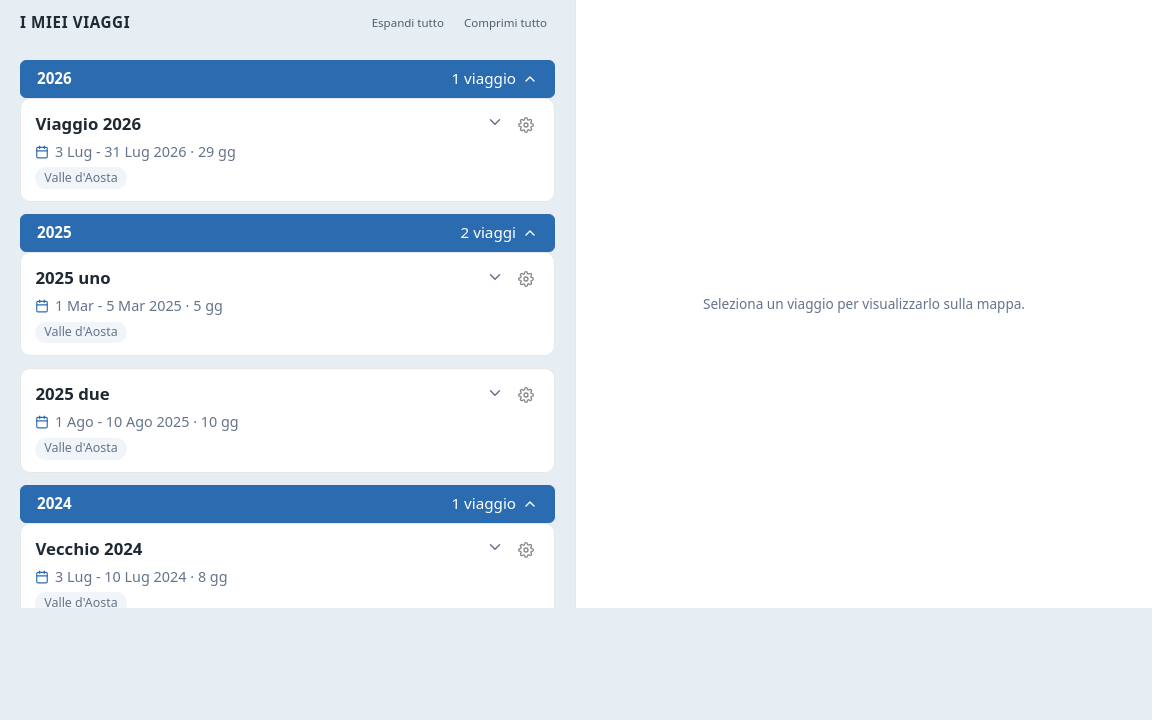
Test: TripsDashboard — year grouping accordion › allows closing multiple years at once and reopening them independently
The image size is (1152, 720).
Click the button with aria-label "Viaggi 2026" at (54, 78), box [20,60,555,98]
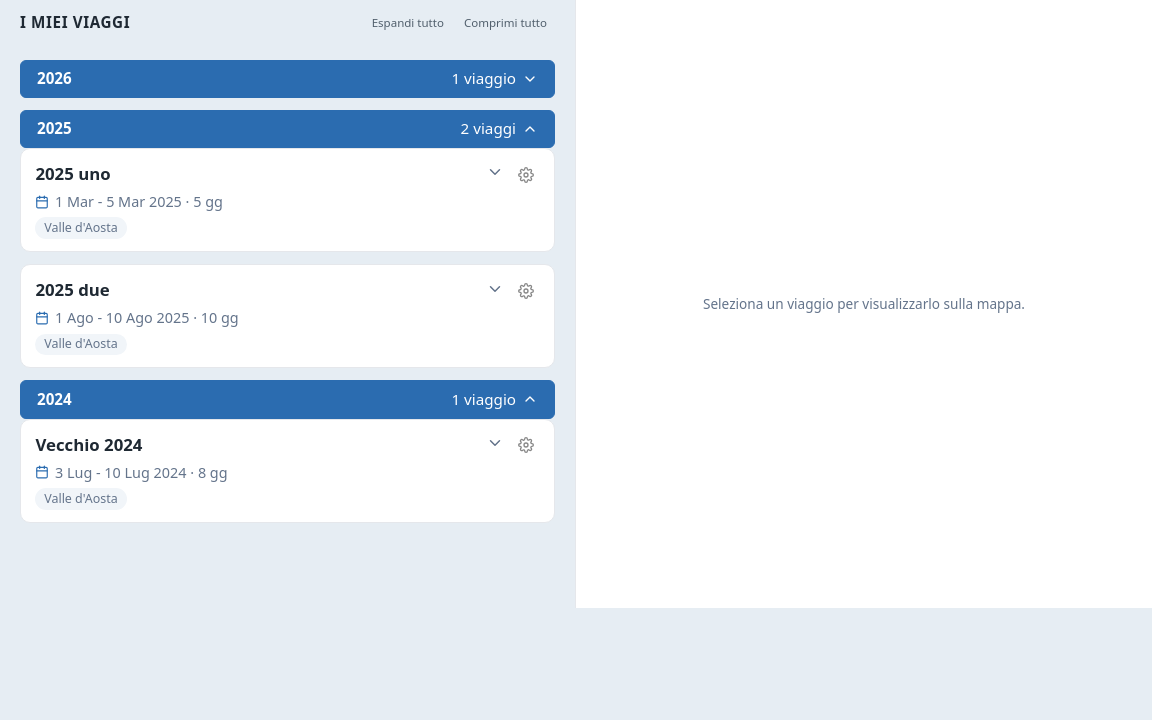
Click the button with aria-label "Viaggi 2024" at (54, 399), box [20,380,555,418]
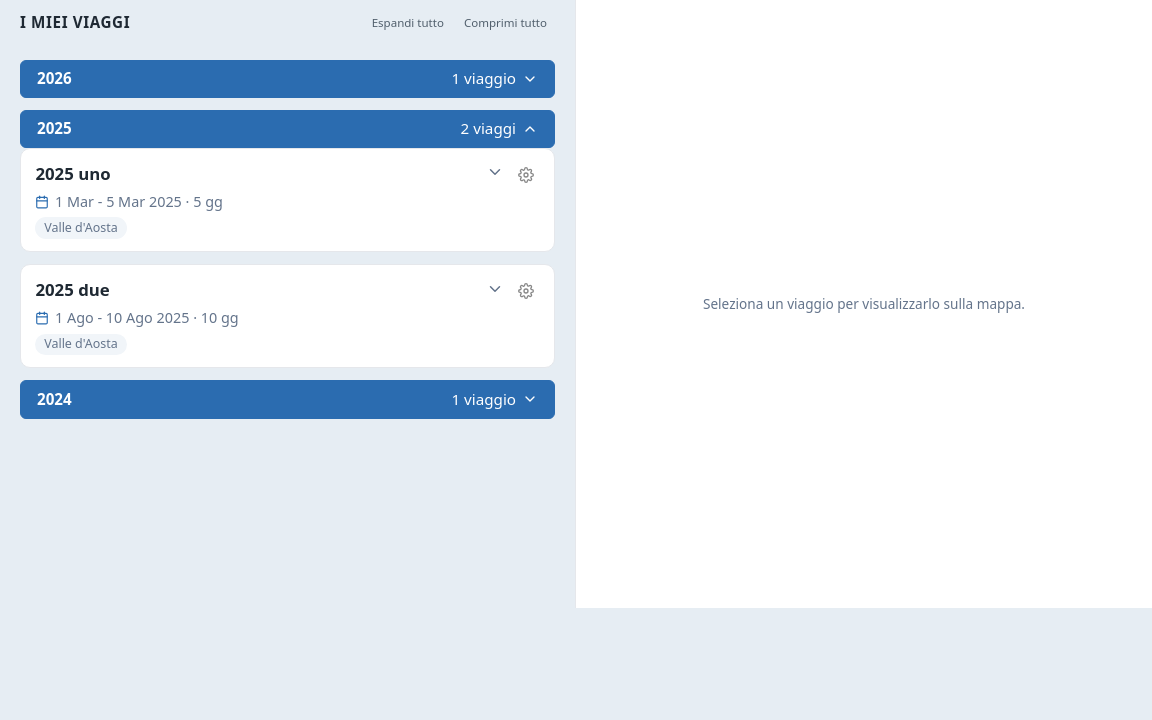
Expected: the element showing "2025 uno 1 Mar - 5 Mar 2025 · 5 gg Valle d'Aosta" is shown, [20,148,555,252]
// Reopening 2024 does not reopen 2026.
Click the button with aria-label "Viaggi 2024" at (54, 399), box [20,380,555,418]
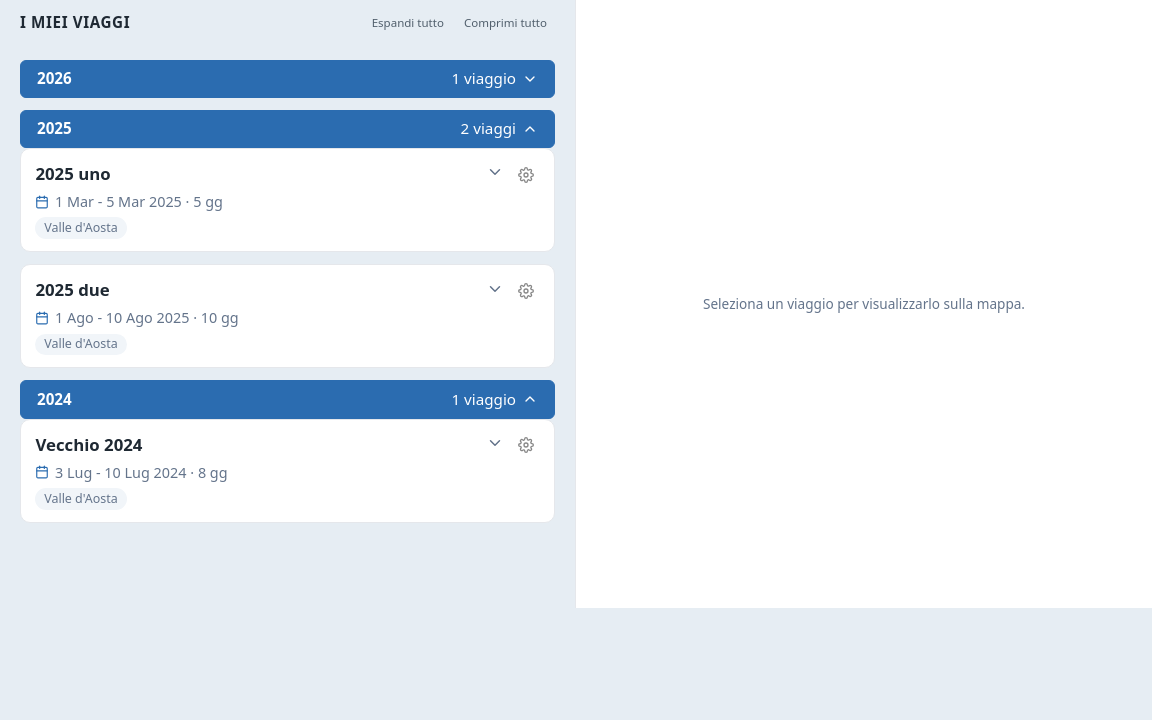
Result: the element showing "Vecchio 2024 3 Lug - 10 Lug 2024 · 8 gg Valle d'Aosta" is shown at [20,418,555,523]
